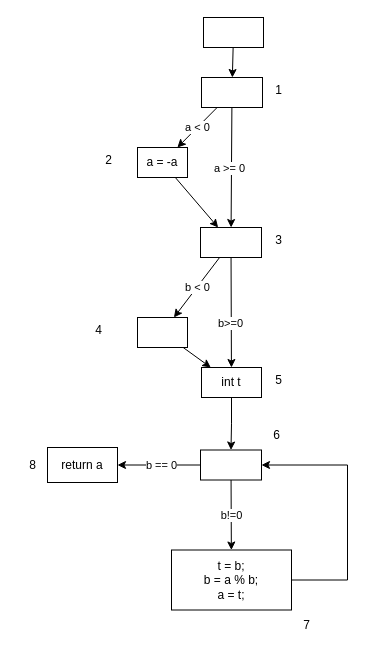
The diagram is 373 pixels wide and 657 high, and some of its shapes have lost their labels. The centre of each missing label's shape, as x and y in pixels:
a, b: point (233, 32)
b = -b: point (162, 332)
